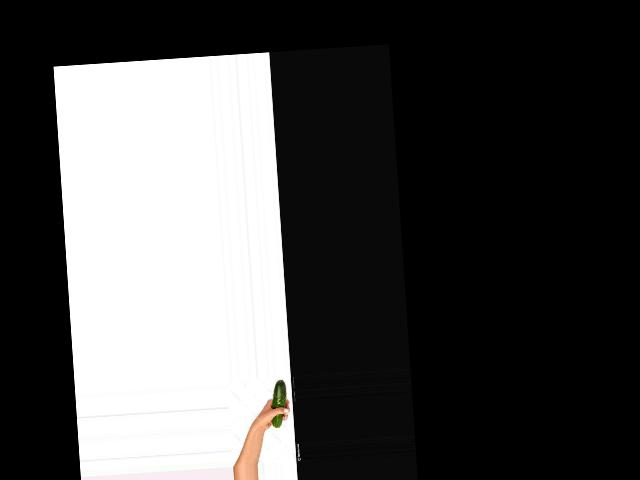cucumber: (269, 378, 289, 427)
